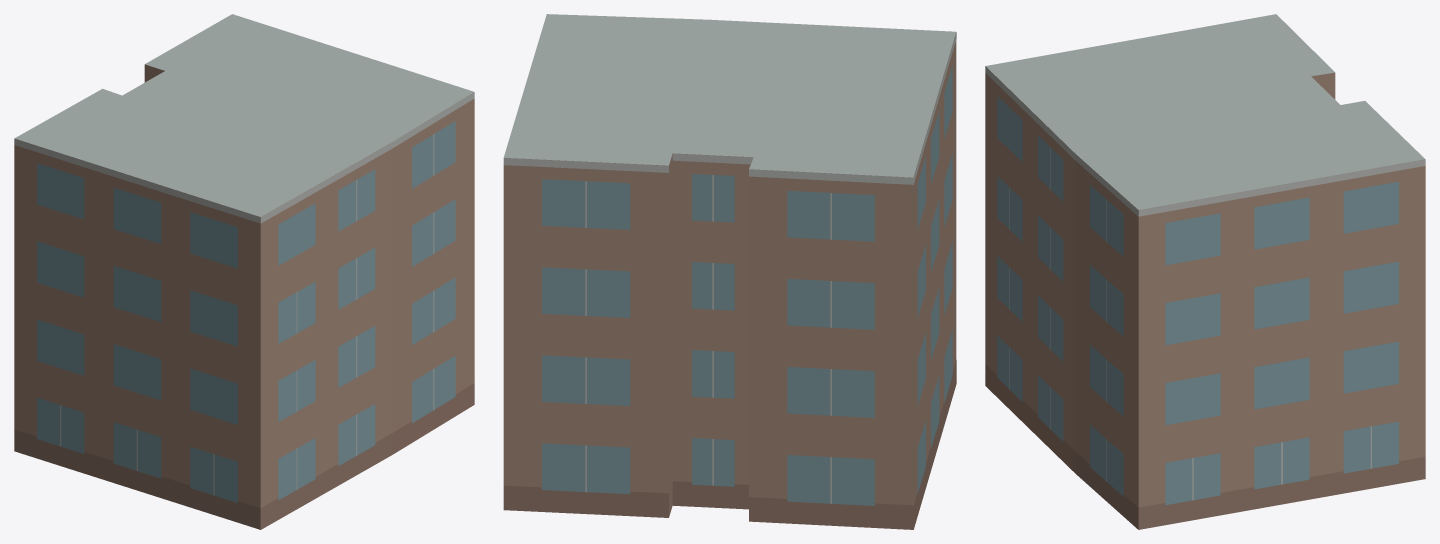
File: survey-upis-32986390.glb
3 renders of one model, left to right at view 1: azimuth 30°, elevation 25°; view 2: azimuth 150°, elevation 25°; view 3: azimuth 270°, elevation 25°, orthographic. The views are drawn at different scales.
Visible parts, largest first — view 1: survey-upis-32986390.tmp; view 2: survey-upis-32986390.tmp; view 3: survey-upis-32986390.tmp.
Boxes of the visible parts, left/top/right/bottom form: survey-upis-32986390.tmp: left=14, top=14, right=474, bottom=529; survey-upis-32986390.tmp: left=503, top=14, right=956, bottom=529; survey-upis-32986390.tmp: left=985, top=14, right=1425, bottom=529.
Bounding box in the file's own units: 15.46 × 11.75 × 14.67.
